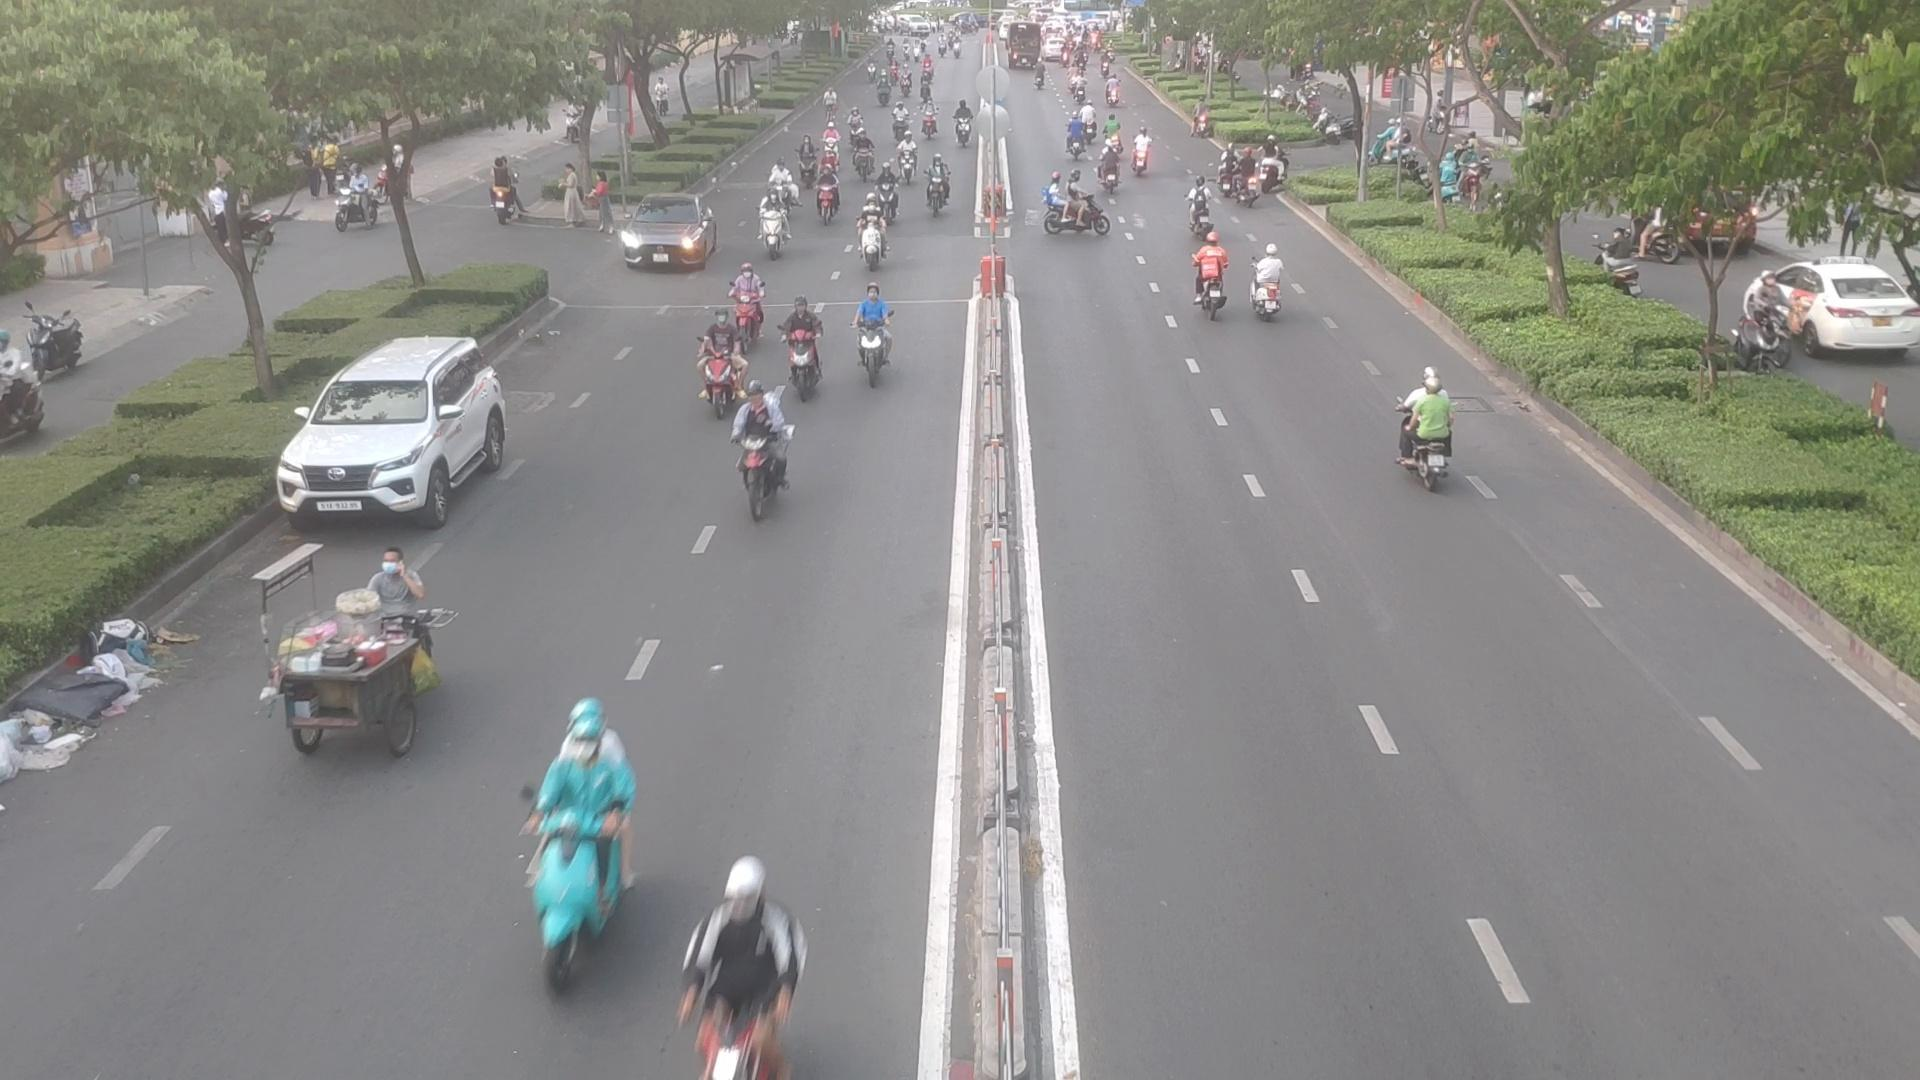car: (281, 331, 524, 524), (613, 196, 724, 274)
motorbike: (512, 720, 641, 994), (661, 868, 800, 1077), (727, 386, 793, 516), (1395, 373, 1468, 481), (690, 313, 753, 413), (847, 284, 903, 381), (782, 294, 835, 394), (715, 266, 769, 338), (1043, 190, 1116, 243), (1185, 237, 1230, 316), (1249, 245, 1294, 319), (754, 202, 791, 260), (853, 210, 890, 266), (1185, 175, 1216, 233), (924, 160, 953, 215), (816, 171, 845, 223), (764, 164, 796, 208), (1131, 133, 1159, 179), (1095, 146, 1121, 193)
